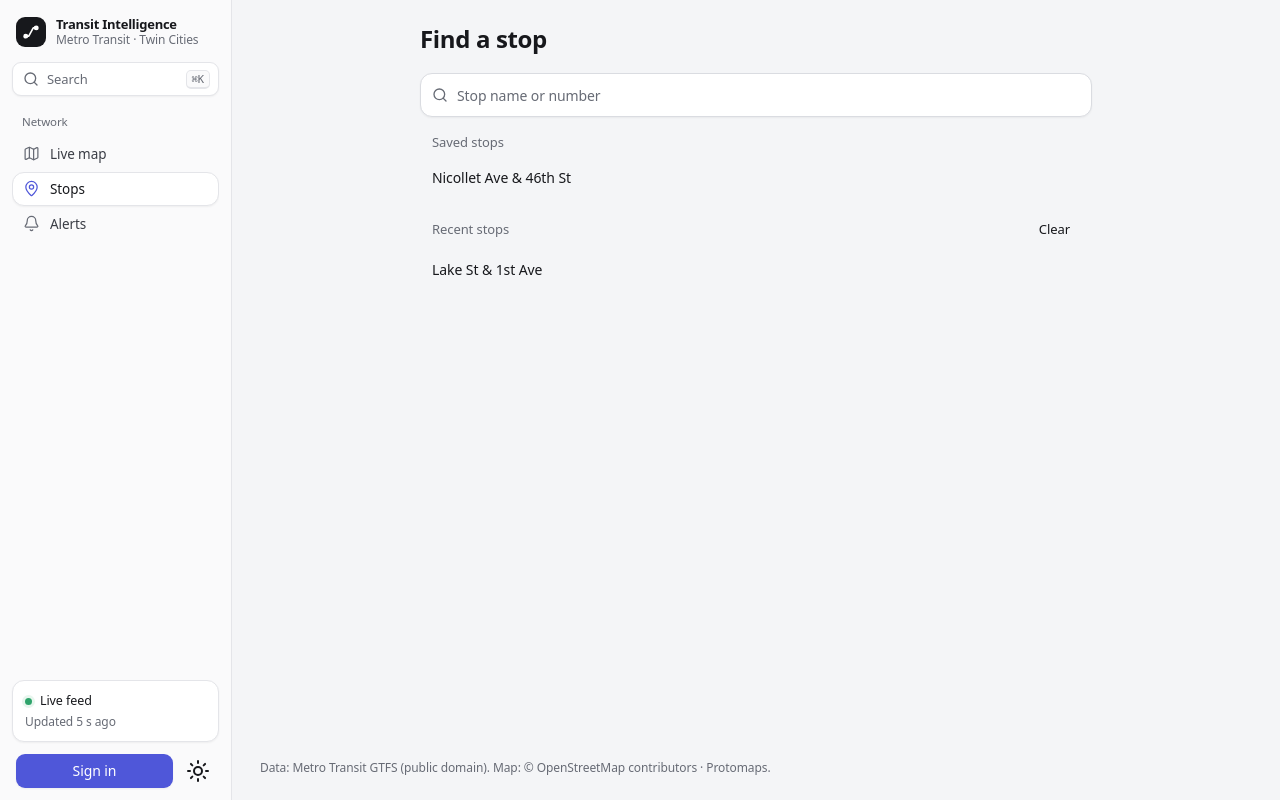
Test: find a stop › lists saved and recent stops while the box is empty, and clears the recent ones
The width and height of the screenshot is (1280, 800).
Expected: the heading "Saved stops" is shown, [432,133,504,152]
Click the button "Clear". click: (1054, 230)
box: [1029,216,1080,244]
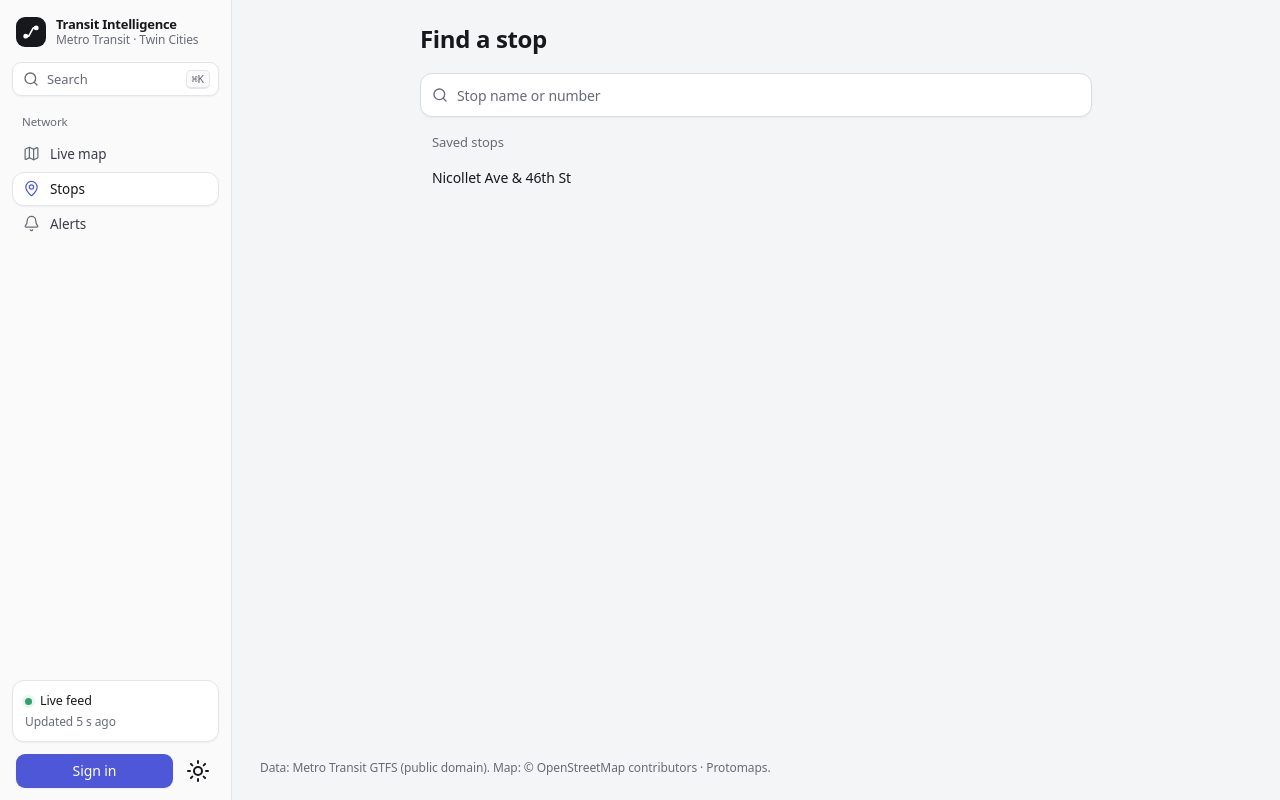
Now the heading "Recent stops" is gone
